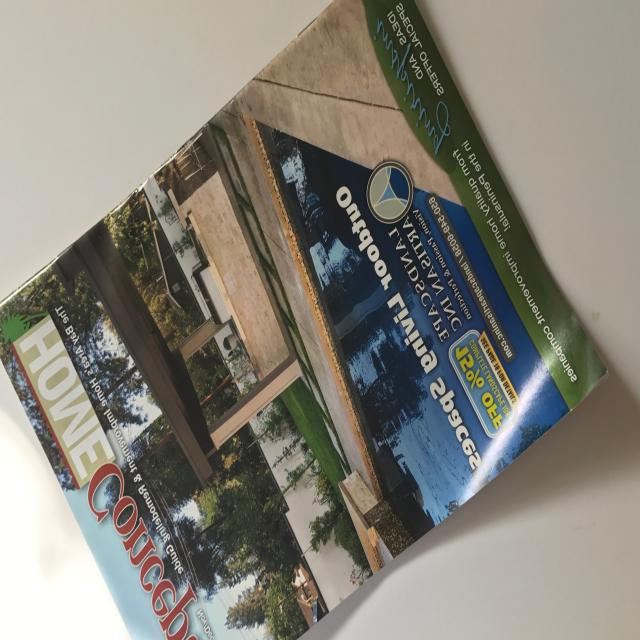paper: (0, 0, 632, 640)
